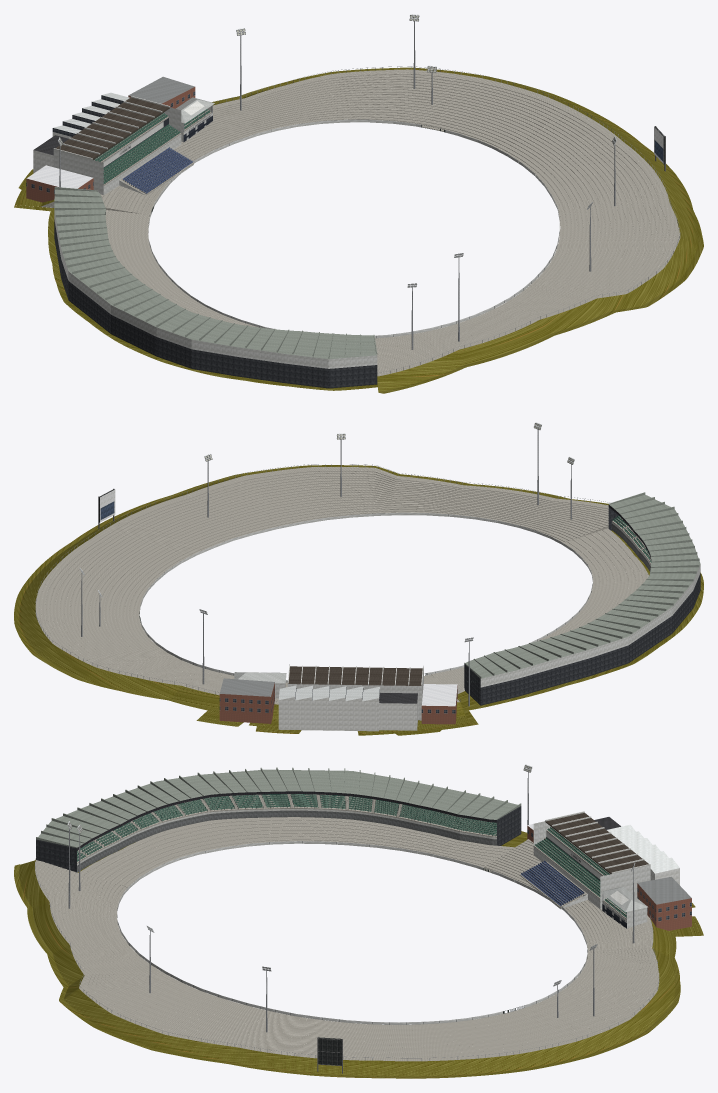
The model's file is moorabbin3.glb.
3 views of the same model, one above another, from view 1: azimuth 30°, elevation 25°; view 2: azimuth 150°, elevation 25°; view 3: azimuth 270°, elevation 25° (orthographic). The views are drawn at different scales.
Parts seen in each view (by area): view 1: terrace, grandstand, huggins_stand, terrace_pocket, huggins_seats, fence, club_whiteblock, club_sawtooth, club_brickblock, light_towers, ian_drake_pavilion, crest_posts (+1 smaller); view 2: terrace, grandstand, terrace_pocket, club_sawtooth, huggins_stand, club_brickblock, fence, club_rearroof, club_whiteblock, light_towers, crest_posts, ian_drake_pavilion (+1 smaller); view 3: terrace, grandstand, terrace_pocket, huggins_stand, longstand_benches, fence, huggins_seats, club_brickblock, club_sawtooth, ian_drake_pavilion, light_towers, scoreboard (+1 smaller).
Part boxes in pixels (bbox=[...]): terrace: bbox=[15, 67, 703, 393]; grandstand: bbox=[54, 187, 377, 388]; huggins_stand: bbox=[53, 96, 193, 195]; terrace_pocket: bbox=[14, 205, 377, 390]; huggins_seats: bbox=[94, 112, 193, 193]; fence: bbox=[148, 119, 559, 338]; club_whiteblock: bbox=[26, 165, 93, 202]; club_sawtooth: bbox=[52, 92, 129, 138]; club_brickblock: bbox=[128, 76, 195, 108]; light_towers: bbox=[58, 14, 616, 349]; ian_drake_pavilion: bbox=[176, 97, 214, 142]; crest_posts: bbox=[212, 66, 680, 373]; terrace: bbox=[14, 465, 608, 735]; grandstand: bbox=[464, 492, 700, 705]; terrace_pocket: bbox=[431, 528, 703, 725]; club_sawtooth: bbox=[278, 685, 379, 731]; huggins_stand: bbox=[287, 664, 423, 720]; club_brickblock: bbox=[219, 678, 274, 723]; fence: bbox=[139, 512, 593, 682]; club_rearroof: bbox=[379, 692, 417, 730]; club_whiteblock: bbox=[421, 684, 457, 724]; light_towers: bbox=[79, 422, 574, 706]; crest_posts: bbox=[35, 464, 609, 703]; ian_drake_pavilion: bbox=[234, 672, 286, 698]; terrace: bbox=[14, 839, 703, 1078]; grandstand: bbox=[36, 767, 521, 872]; terrace_pocket: bbox=[35, 817, 527, 887]; huggins_stand: bbox=[520, 811, 650, 909]; longstand_benches: bbox=[44, 794, 516, 865]; fence: bbox=[117, 841, 587, 1024]; huggins_seats: bbox=[521, 827, 609, 906]; club_brickblock: bbox=[637, 876, 691, 930]; club_sawtooth: bbox=[607, 824, 679, 884]; ian_drake_pavilion: bbox=[600, 886, 647, 928]; light_towers: bbox=[67, 764, 635, 1032]; scoreboard: bbox=[317, 1037, 342, 1073].
Bounding box in the file's own units: 234 × 35.34 × 241.
52 materials, 52 textured.
